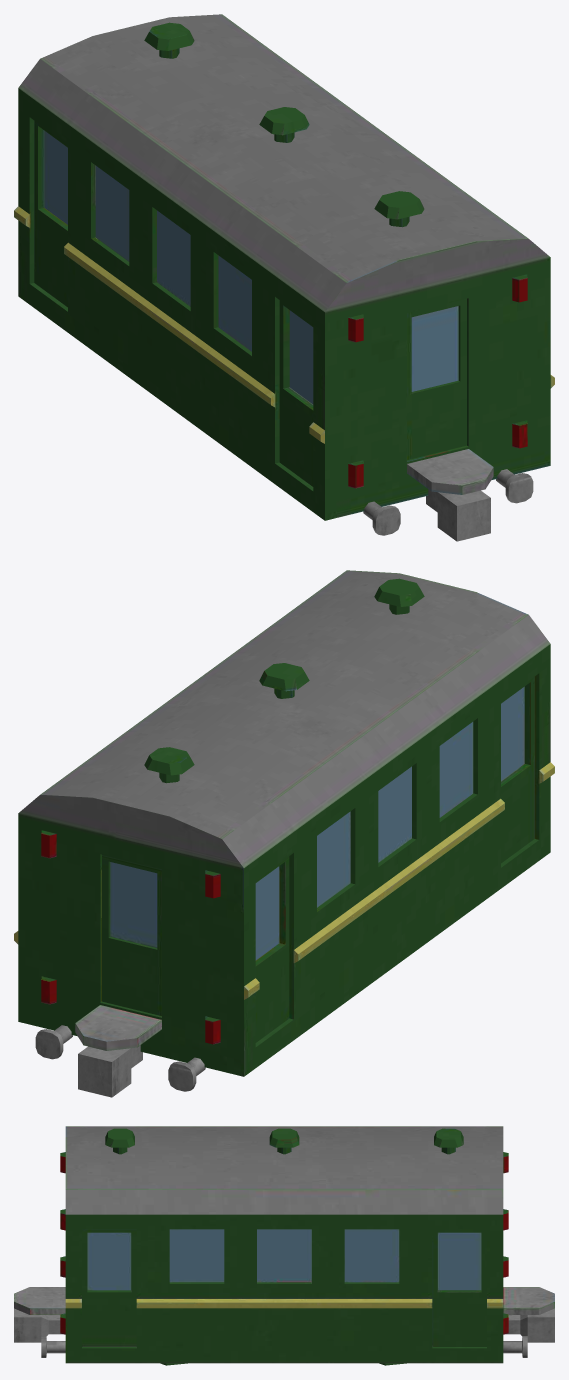
Rendered from wagon_pass_01.gltf.
3 views of the same model, one above another, from view 1: azimuth 30°, elevation 25°; view 2: azimuth 150°, elevation 25°; view 3: azimuth 270°, elevation 25° (orthographic). The views are drawn at different scales.
Parts seen in each view (by area): view 1: WagonPass_01; view 2: WagonPass_01; view 3: WagonPass_01.
Boxes of the visible parts, left/top/right/bottom form: WagonPass_01: left=14, top=14, right=554, bottom=541; WagonPass_01: left=14, top=570, right=554, bottom=1097; WagonPass_01: left=14, top=1126, right=554, bottom=1365.
Size of the model in its own units: 3.81 by 4.69 by 10.67.
